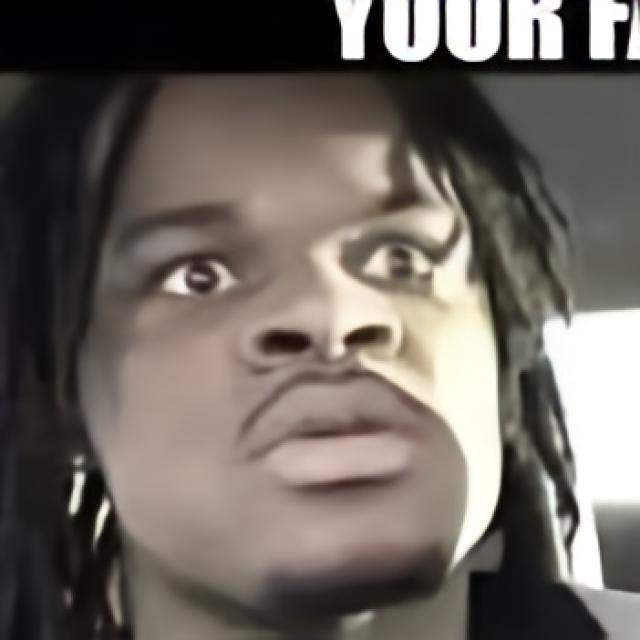Fear: (78, 78, 502, 616)
